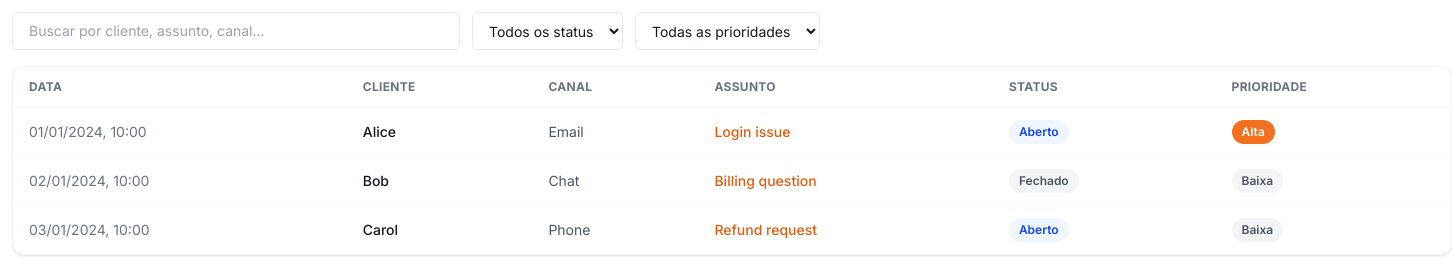
Test: TicketsTable › combines status filter and search text
Select "Aberto" in the dropdown named "status" at (548, 31), box [472,12,623,50]
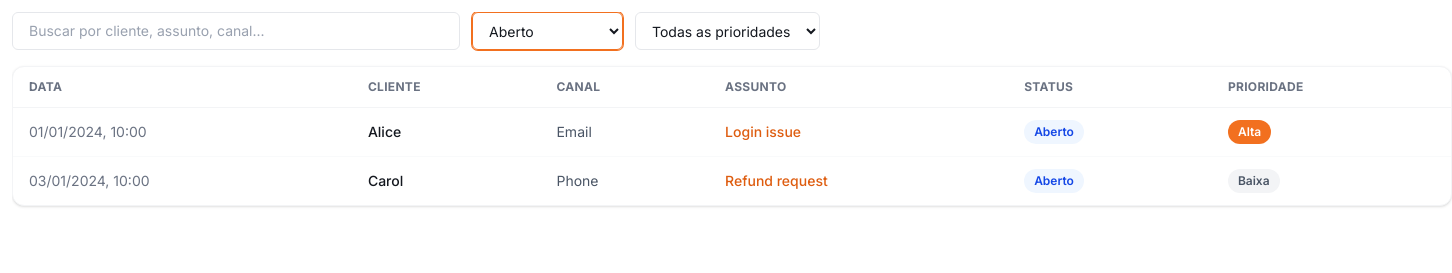
Type "Refund" into the field labelled "Buscar por cliente, assunto, canal..." at (236, 31), box [12,12,460,50]
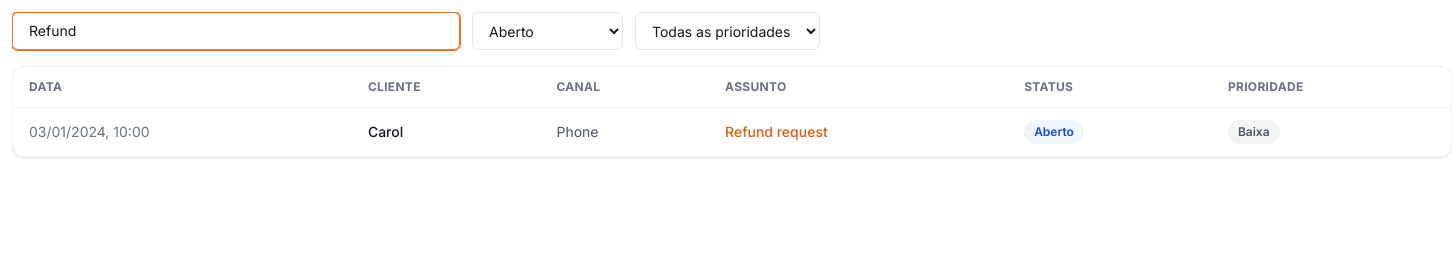
Expected: the text "Carol" is shown, [352,108,540,156]
Expected: the text "Alice" is gone
